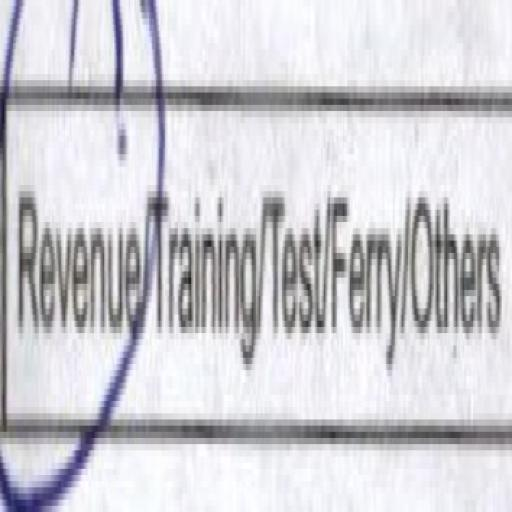check: (0, 0, 150, 511)
